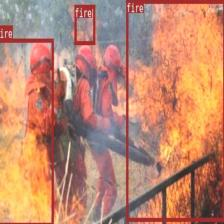fire: (125, 0, 223, 220), (0, 37, 53, 224), (74, 4, 95, 44)
